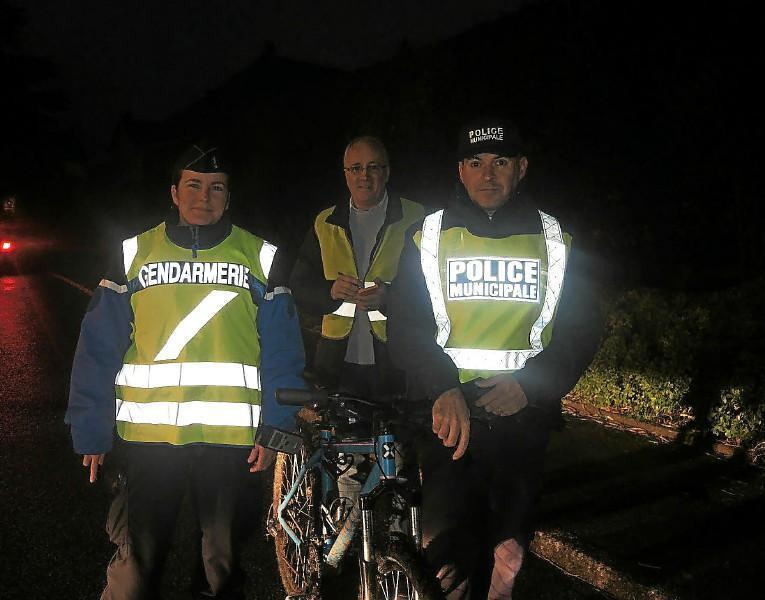Vest: (117, 226, 278, 442), (415, 202, 573, 391), (316, 201, 426, 346)
